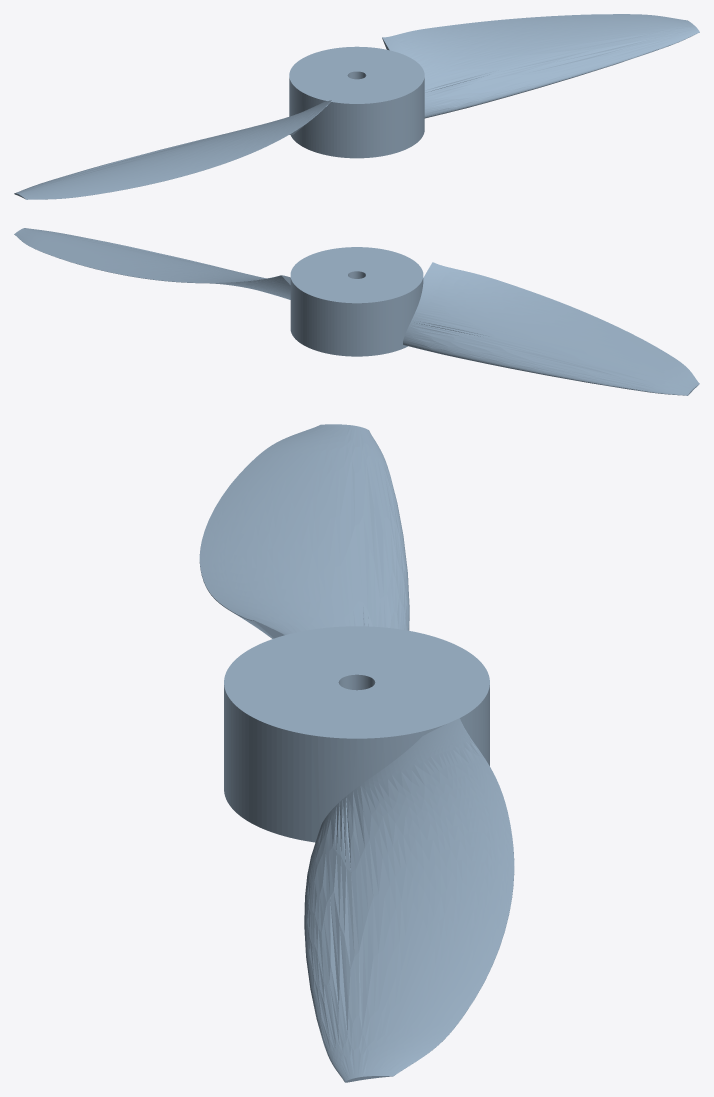
The picture shows the model from 3 angles, top to bottom: view 1: azimuth 30°, elevation 25°; view 2: azimuth 150°, elevation 25°; view 3: azimuth 270°, elevation 25°; orthographic projection. The views are drawn at different scales.
Visible parts, largest first — view 1: 10in-2b.stl; view 2: 10in-2b.stl; view 3: 10in-2b.stl.
Part boxes in pixels (box(x1,y1,x2,y2)): 10in-2b.stl: box(14, 14, 699, 199); 10in-2b.stl: box(14, 228, 699, 395); 10in-2b.stl: box(199, 424, 514, 1082).
Size of the model in its own units: 0.254 by 0.0218 by 0.0518.
